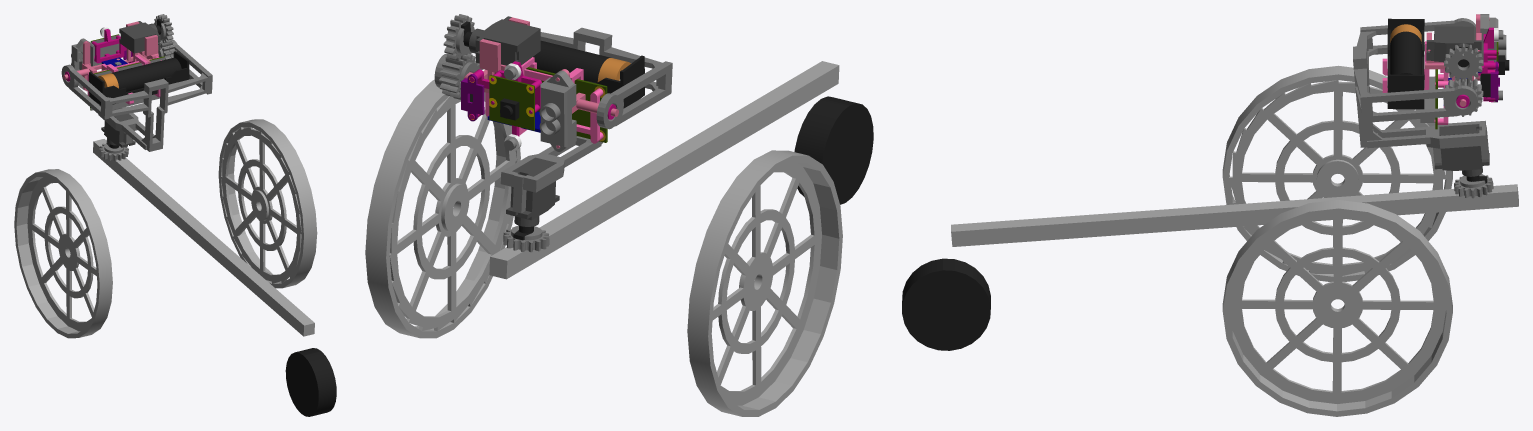
Rendered from robot-flipped.glb.
3 renders of one model, left to right at view 1: azimuth 30°, elevation 25°; view 2: azimuth 150°, elevation 25°; view 3: azimuth 270°, elevation 25°, orthographic. The views are drawn at different scales.
Visible parts, largest first — view 1: object 2, object 3, root, object 7, object 11, object 8, object 10, object 26, object 13, object 5, object 16, object 22 (+3 smaller); view 2: object 2, object 3, root, object 7, object 16, object 26, object 11, object 23, object 5, object 8, object 17, object 22 (+6 smaller); view 3: object 3, root, object 2, object 7, object 10, object 5, object 11, object 26, object 21, object 4, object 17, object 13 (+1 smaller).
Boxes of the visible parts, bbox=[...] form: object 2: bbox=[14, 169, 112, 338]; object 3: bbox=[218, 119, 317, 288]; root: bbox=[93, 139, 336, 416]; object 7: bbox=[61, 39, 212, 151]; object 11: bbox=[98, 58, 181, 91]; object 8: bbox=[63, 21, 158, 91]; object 10: bbox=[89, 51, 189, 105]; object 26: bbox=[119, 19, 162, 53]; object 13: bbox=[92, 29, 133, 63]; object 5: bbox=[101, 108, 135, 147]; object 16: bbox=[71, 38, 94, 89]; object 22: bbox=[90, 56, 165, 110]; object 2: bbox=[687, 150, 842, 416]; object 3: bbox=[365, 79, 520, 338]; root: bbox=[489, 61, 873, 279]; object 7: bbox=[434, 27, 672, 213]; object 16: bbox=[539, 70, 576, 151]; object 26: bbox=[461, 16, 540, 65]; object 11: bbox=[533, 40, 630, 82]; object 23: bbox=[489, 75, 534, 130]; object 5: bbox=[506, 157, 559, 226]; object 8: bbox=[463, 17, 618, 148]; object 17: bbox=[485, 57, 603, 143]; object 22: bbox=[494, 67, 607, 142]; object 3: bbox=[1222, 200, 1452, 416]; root: bbox=[902, 184, 1518, 350]; object 2: bbox=[1222, 65, 1452, 281]; object 7: bbox=[1353, 18, 1489, 163]; object 10: bbox=[1387, 18, 1424, 109]; object 5: bbox=[1434, 124, 1489, 176]; object 11: bbox=[1390, 24, 1421, 74]; object 26: bbox=[1426, 26, 1481, 67]; object 21: bbox=[1444, 43, 1483, 82]; object 4: bbox=[1454, 174, 1493, 198]; object 17: bbox=[1382, 41, 1448, 124]; object 13: bbox=[1478, 27, 1498, 102].
Size of the model in its own units: 0.1924 by 0.2074 by 0.3515.
